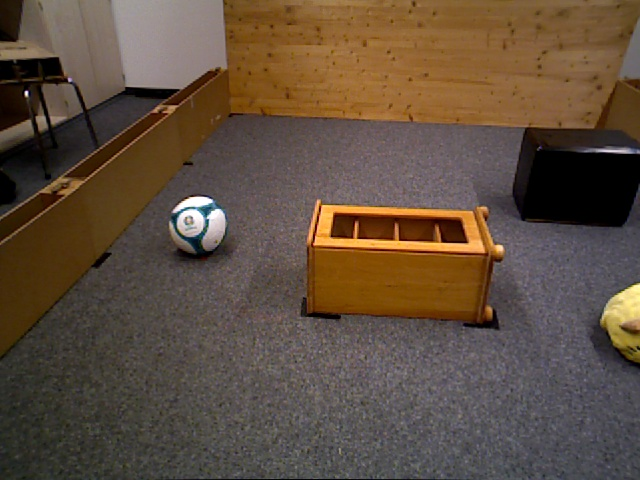grasp: (600, 284, 640, 360)
kick: (172, 194, 227, 255)
push: (516, 129, 640, 225)
